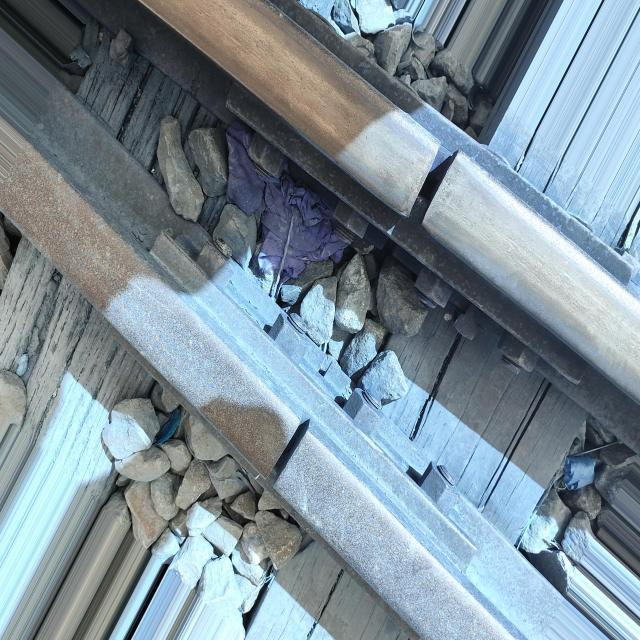Good Joint: (228, 0, 632, 390), (150, 225, 475, 582)
